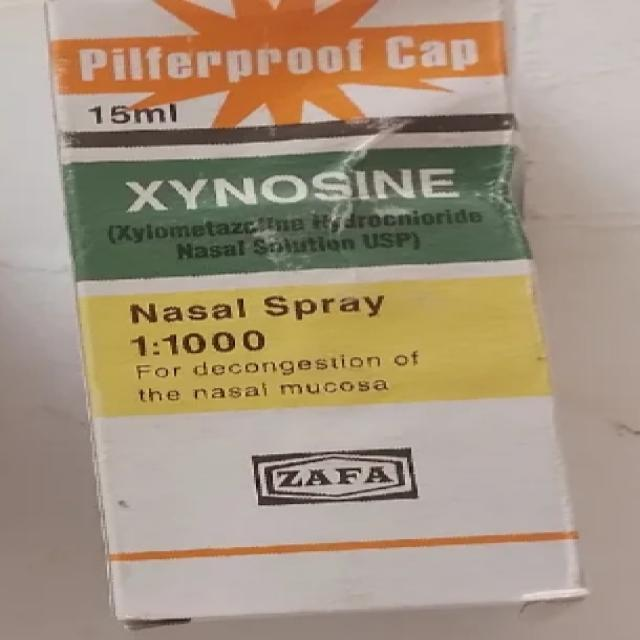drug-name: (119, 168, 467, 210)
